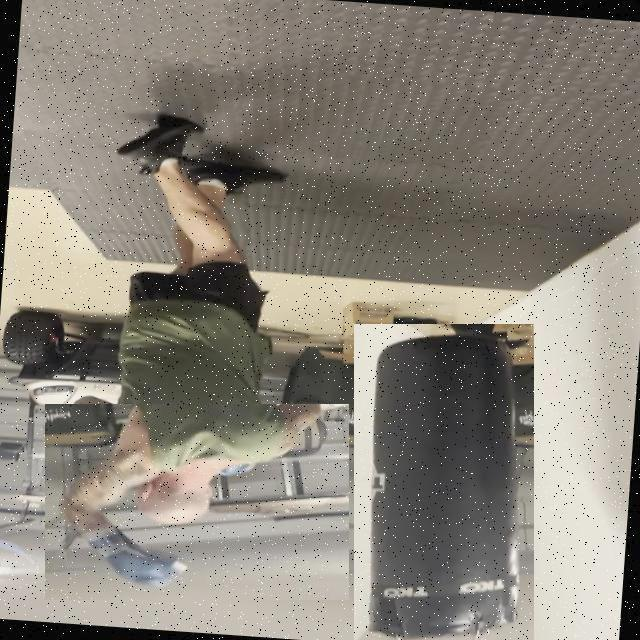punch: (45, 404, 349, 600)
